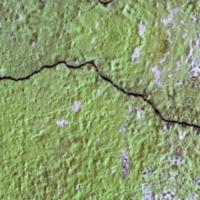crack: (2, 44, 199, 139)
